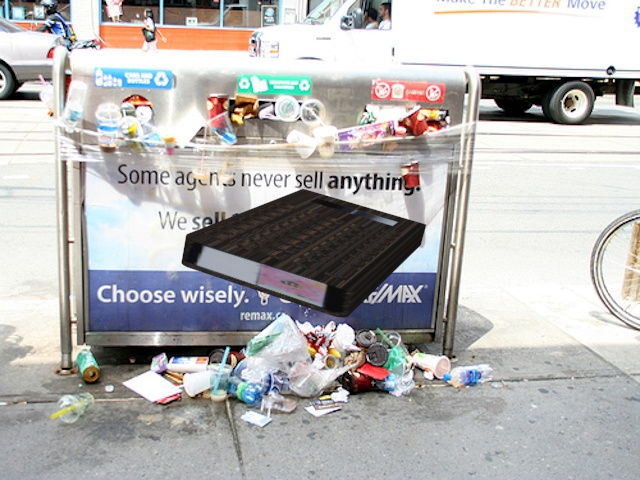calculator: (177, 177, 432, 320)
